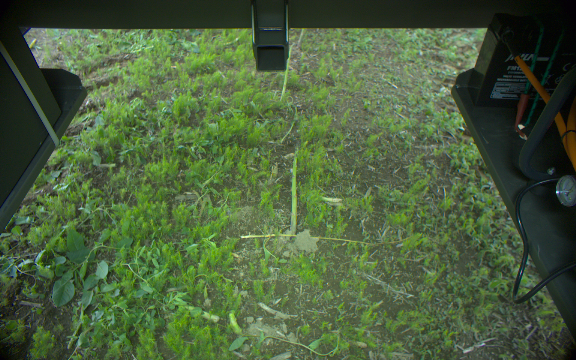aspa: (288, 141, 303, 235), (279, 46, 293, 103)
